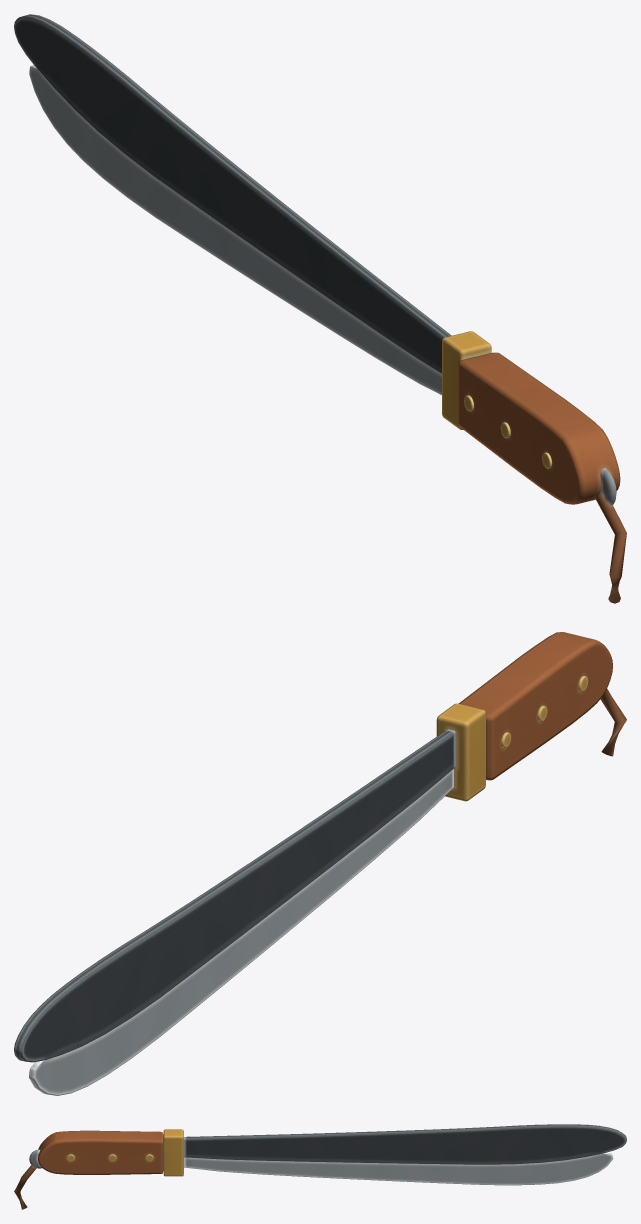
Rendered from machete.glb.
3 renders of one model, top to bottom at view 1: azimuth 30°, elevation 25°; view 2: azimuth 150°, elevation 25°; view 3: azimuth 270°, elevation 25°, orthographic. The views are drawn at different scales.
Visible parts, largest first — view 1: machete_body; view 2: machete_body; view 3: machete_body.
Part boxes in pixels (left/top/right/bottom): machete_body: left=14, top=14, right=626, bottom=603; machete_body: left=14, top=632, right=626, bottom=1095; machete_body: left=14, top=1124, right=626, bottom=1209.
Size of the model in its own units: 0.029 by 0.1008 by 0.662.
1 material, 1 textured.
